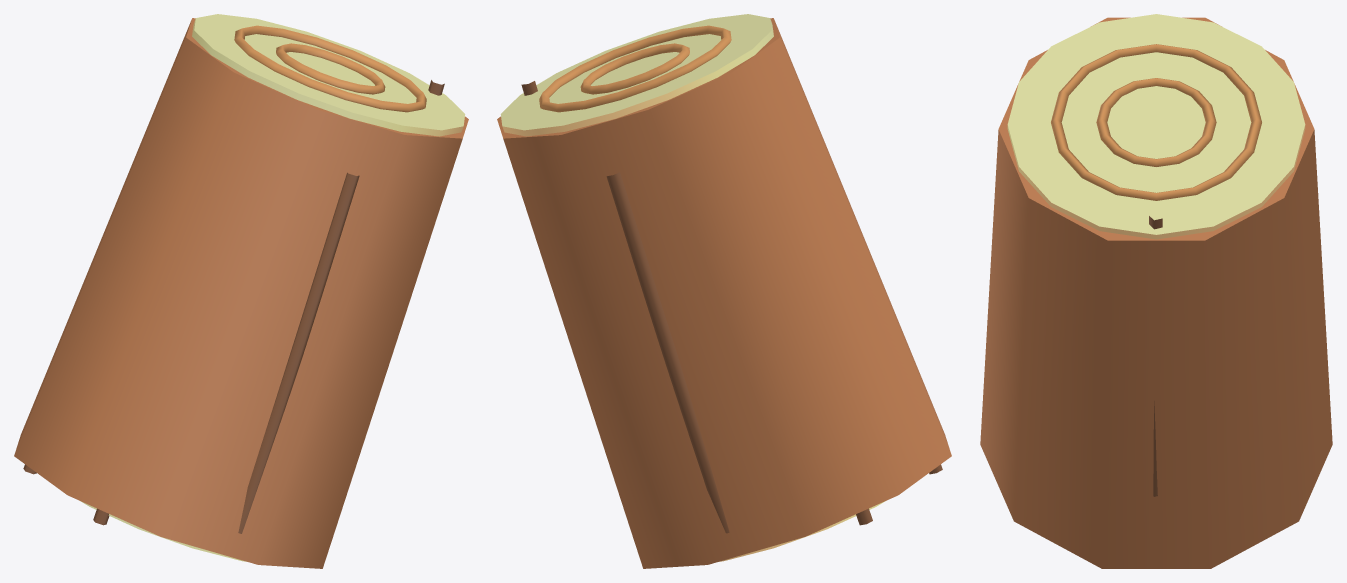
File: tung-wood.glb
3 views of the same model, side by side, from view 1: azimuth 30°, elevation 25°; view 2: azimuth 150°, elevation 25°; view 3: azimuth 270°, elevation 25° (orthographic).
Size of the model in its own units: 0.2119 by 0.25 by 0.1564.
